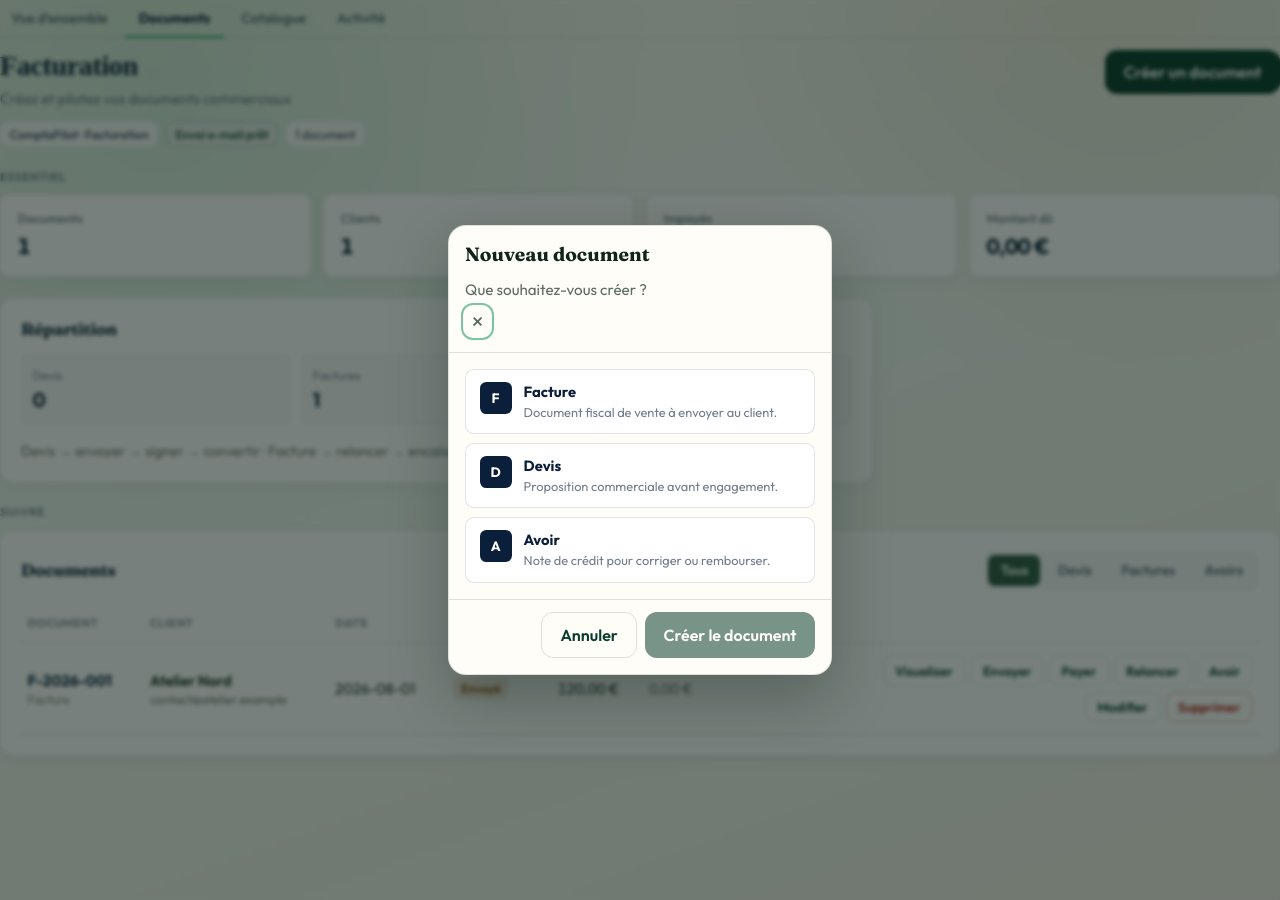
Scenario: MM21–MM30 Fermeture / empty valid / confirmation › MM25 — Annuler type ferme → Documents
The image size is (1280, 900).
Expected: the heading "Nouveau document" is shown, [465, 242, 682, 266]
Click the button "Annuler" at point(589, 635), box [541, 612, 637, 658]
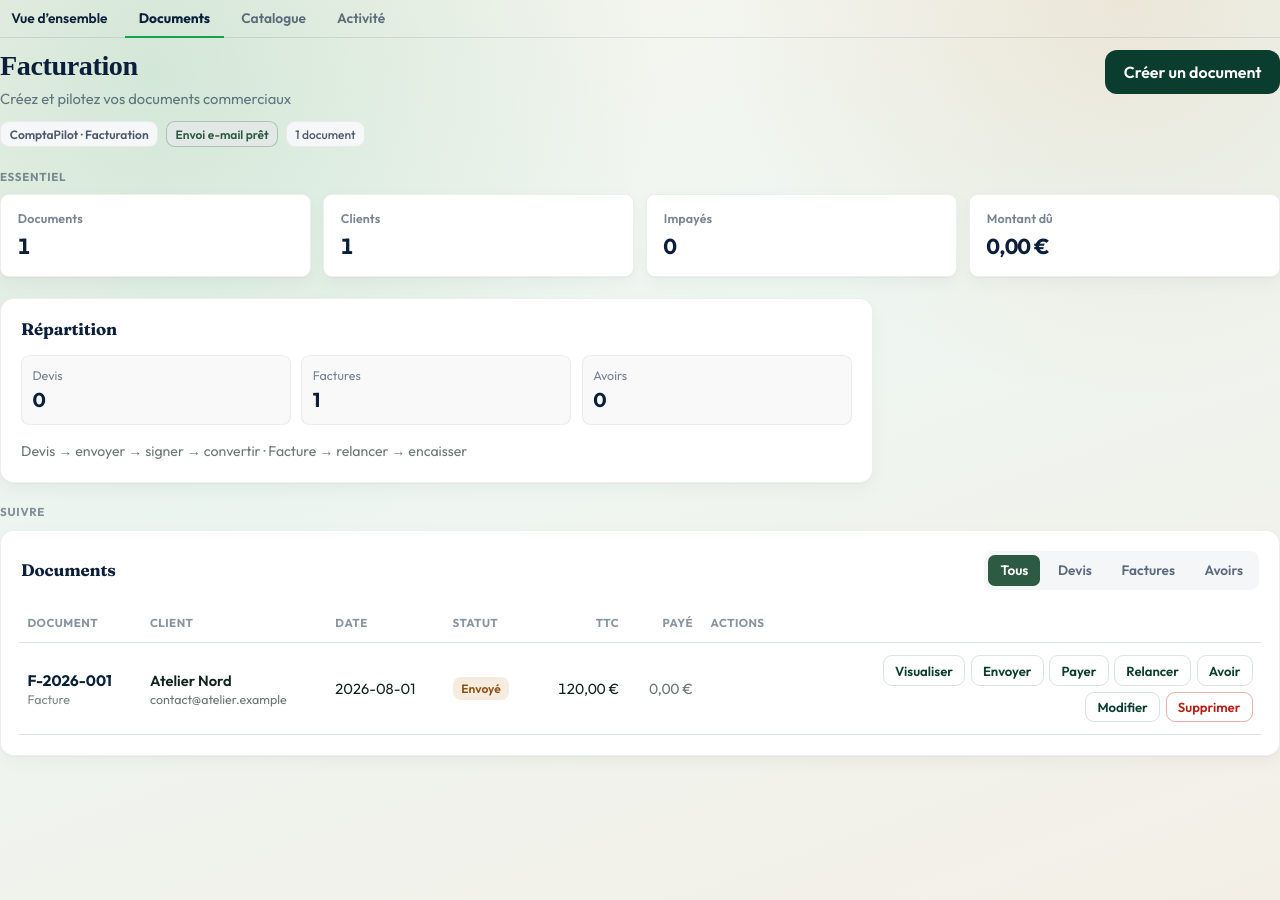
Expected: the heading "Nouveau document" is gone
